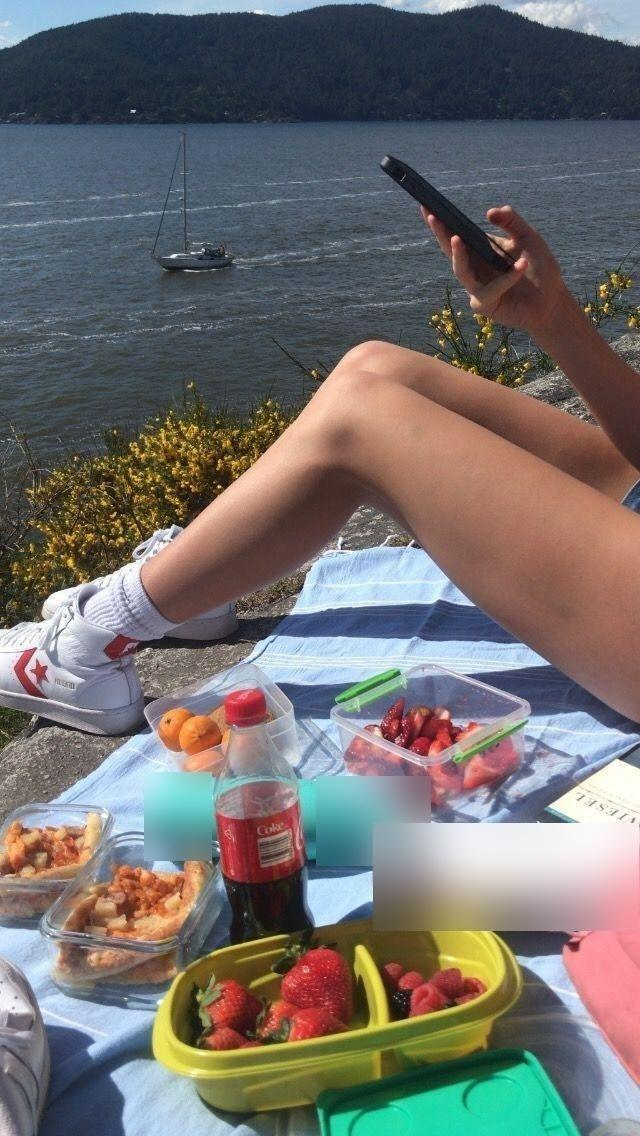bottle-plastic: (209, 687, 312, 940)
